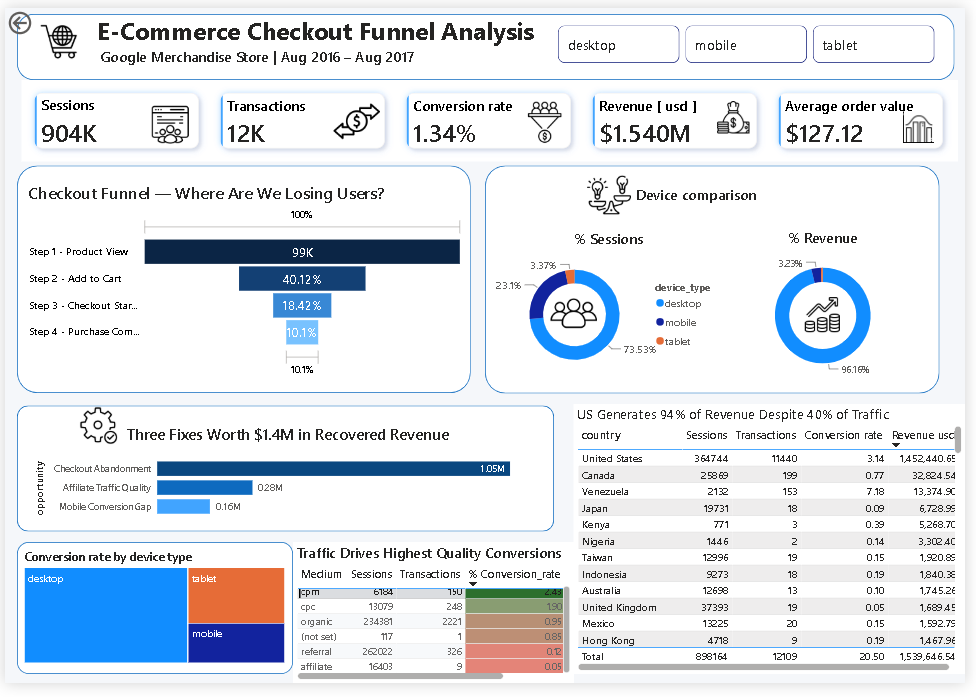

Layout of this report page (visuals, bound fields, positions):
{"tool":"powerbi","page":{"name":"Page 1","canvas":[1280,900],"ordinal":0},"visuals":[{"type":"shape","box":[16,712,368,176],"z":0},{"type":"shape","box":[16,530,716,168],"z":1000},{"type":"shape","box":[16.7,210.8,605,303.3],"z":2000},{"type":"shape","box":[640,210,606,304],"z":3000},{"type":"shape","box":[16,8,1250,88],"z":4000},{"type":"cardVisual","fields":{"Data":["Sum(kpi.total_sessions)","Sum(kpi.total_transactions)","Sum(kpi.conversion_rate_pct)","Sum(kpi.total_revenue_usd)","Sum(kpi.avg_order_value)"]},"box":[21.7,96.7,1248.3,108.3],"z":5000},{"type":"textbox","box":[118,8,614,88],"z":6000},{"type":"funnel","title":"Checkout Funnel — Where Are We Losing Users?","fields":{"Category":["funnel.funnel_step"],"Y":["Sum(funnel.users)"]},"box":[25,230,590,266.7],"z":7000},{"type":"actionButton","box":[0,0,100,40],"z":8000},{"type":"donutChart","title":"% Sessions","fields":{"Y":["Sum(device.total_sessions)"],"Category":["device.device_type"]},"box":[646,294,316,204],"z":9000},{"type":"donutChart","title":"% Revenue","fields":{"Category":["device.device_type"],"Y":["Sum(device.revenue_usd)"]},"box":[961.7,291.7,256,210],"z":10000},{"type":"tableEx","title":"Traffic Drives Highest Quality Conversions","fields":{"Values":["traffic.traffic_medium","Sum(traffic.total_sessions)","Sum(traffic.transactions)","Sum(traffic.conversion_rate_pct)","Sum(traffic.revenue_usd)"]},"box":[384,712,374,188],"z":11000},{"type":"clusteredBarChart","title":"Three Fixes Worth $1.4M in Recovered Revenue","fields":{"Category":["opportunity.opportunity"],"Y":["Sum(opportunity.revenue_opportunity_usd)"]},"box":[36,554,682,136],"z":12000},{"type":"tableEx","title":"US Generates 94% of Revenue Despite 40% of Traffic","fields":{"Values":["geography.country","Sum(geography.total_sessions)","Sum(geography.transactions)","Sum(geography.conversion_rate_pct)","Sum(geography.revenue_usd)"]},"box":[758,528,522,360],"z":13000},{"type":"textbox","box":[836.7,230,211.7,38.3],"z":14000},{"type":"treemap","title":"Conversion rate by device type","fields":{"Group":["device.device_type"],"Values":["Sum(device.conversion_rate_pct)"]},"box":[20,720,358,158],"z":15000},{"type":"image","box":[16.7,20,111.7,50],"z":16000},{"type":"image","box":[723.3,376.7,68.3,61.7],"z":17000},{"type":"image","box":[1046.7,383.3,86.7,50],"z":18000},{"type":"image","box":[438.3,116.7,61.7,70],"z":19000},{"type":"image","box":[645,123.3,146.7,56.7],"z":20000},{"type":"image","box":[920,123.3,101.7,43.3],"z":21000},{"type":"image","box":[1171.7,138.3,91.7,41.7],"z":22000},{"type":"image","box":[158.3,123.3,125,63.3],"z":23000},{"type":"image","box":[765,220,78.3,58.3],"z":24000},{"type":"image","box":[92,530,66,54],"z":25000},{"type":"advancedSlicerVisual","title":"Device type","fields":{"Values":["device.device_type"]},"box":[731.7,18.3,513.3,60],"z":26000}]}

Visuals, with their boxes in screenshot pixels (x1, y1, x2, y2), scaled from the page's 1280x900 canvas onto the 976x697 screenshot:
shape: <bbox>12, 551, 293, 688</bbox>
shape: <bbox>12, 410, 558, 541</bbox>
shape: <bbox>13, 163, 474, 398</bbox>
shape: <bbox>488, 163, 950, 398</bbox>
shape: <bbox>12, 6, 965, 74</bbox>
cardVisual - Sum(kpi.total_sessions) x Sum(kpi.total_transactions): <bbox>17, 75, 968, 159</bbox>
textbox: <bbox>90, 6, 558, 74</bbox>
"Checkout Funnel — Where Are We Losing Users?" funnel: <bbox>19, 178, 469, 385</bbox>
actionButton: <bbox>0, 0, 76, 31</bbox>
"% Sessions" donutChart: <bbox>493, 228, 734, 386</bbox>
"% Revenue" donutChart: <bbox>733, 226, 928, 389</bbox>
"Traffic Drives Highest Quality Conversions" tableEx: <bbox>293, 551, 578, 696</bbox>
"Three Fixes Worth $1.4M in Recovered Revenue" clusteredBarChart: <bbox>27, 429, 547, 534</bbox>
"US Generates 94% of Revenue Despite 40% of Traffic" tableEx: <bbox>578, 409, 975, 688</bbox>
textbox: <bbox>638, 178, 799, 208</bbox>
"Conversion rate by device type" treemap: <bbox>15, 558, 288, 680</bbox>
image: <bbox>13, 15, 98, 54</bbox>
image: <bbox>552, 292, 604, 340</bbox>
image: <bbox>798, 297, 864, 336</bbox>
image: <bbox>334, 90, 381, 145</bbox>
image: <bbox>492, 95, 604, 139</bbox>
image: <bbox>702, 95, 779, 129</bbox>
image: <bbox>893, 107, 963, 139</bbox>
image: <bbox>121, 95, 216, 145</bbox>
image: <bbox>583, 170, 643, 216</bbox>
image: <bbox>70, 410, 120, 452</bbox>
"Device type" advancedSlicerVisual: <bbox>558, 14, 949, 61</bbox>
